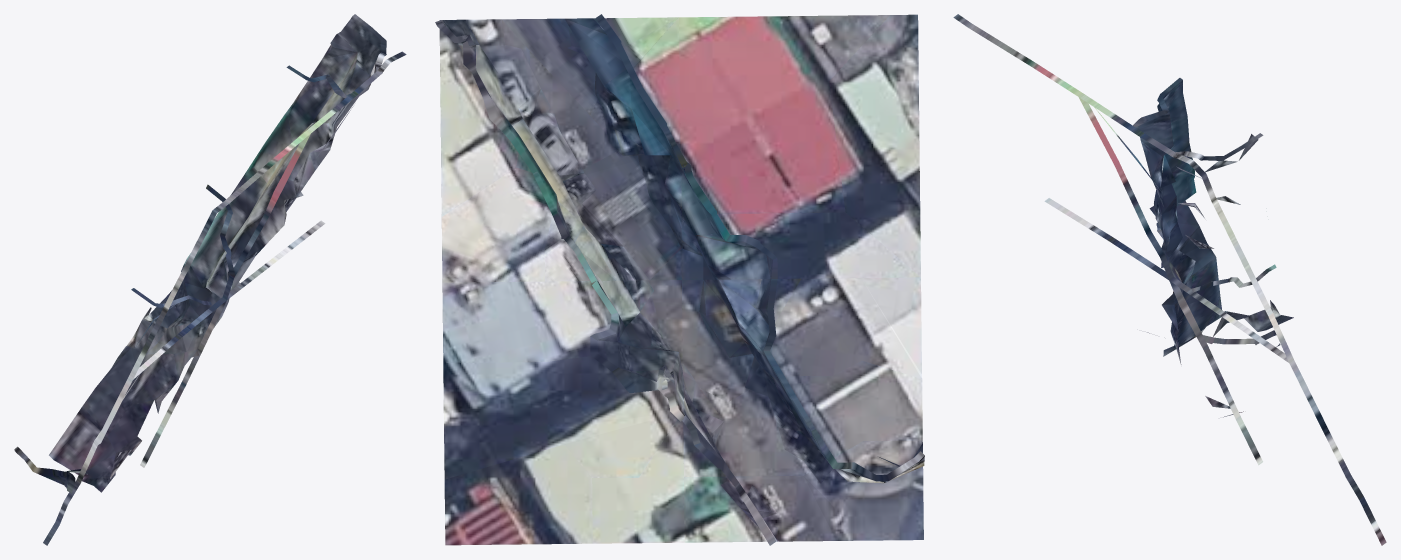
The picture shows the model from 3 angles, left to right: view 1: azimuth 30°, elevation 25°; view 2: azimuth 150°, elevation 25°; view 3: azimuth 270°, elevation 25°; orthographic projection. The views are drawn at different scales.
Bounding box in the file's own units: 39.31 × 37.44 × 32.66.
1 material, 1 textured.
